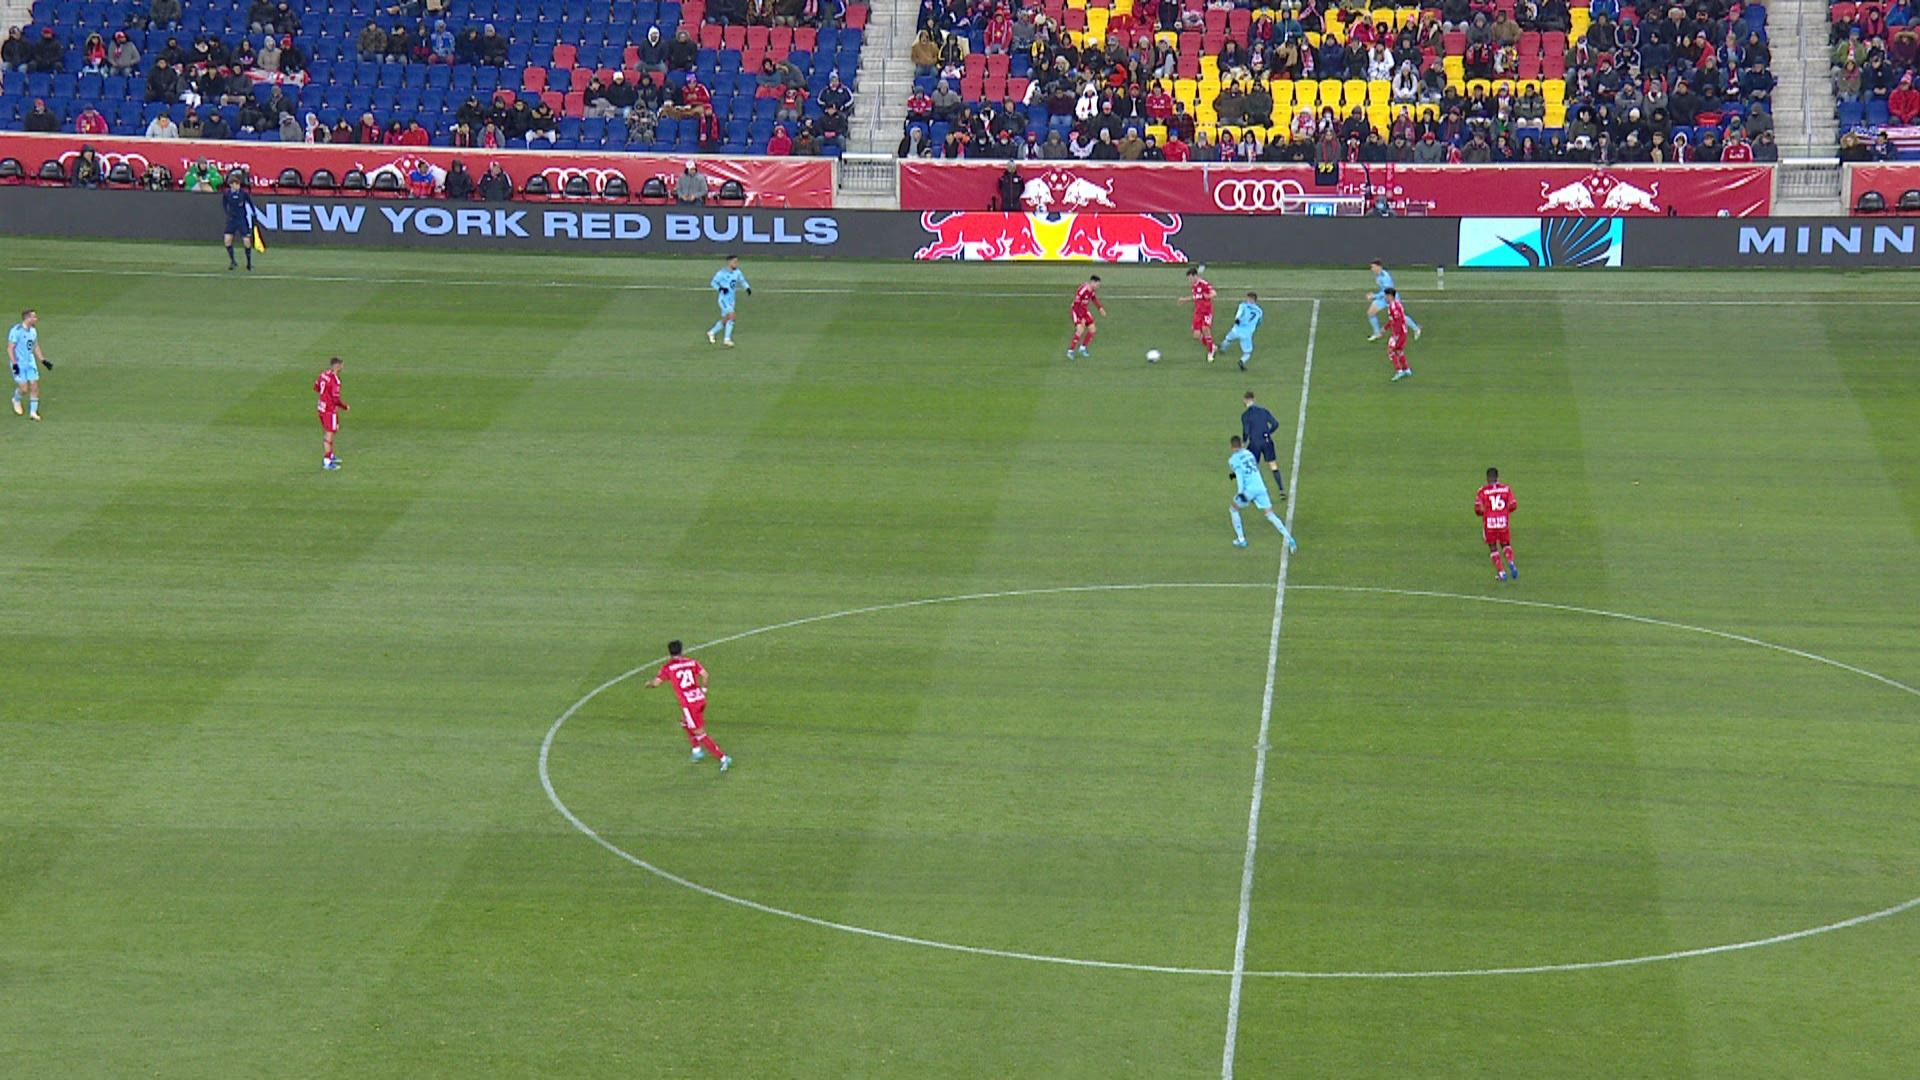football: (1145, 347, 1163, 365)
